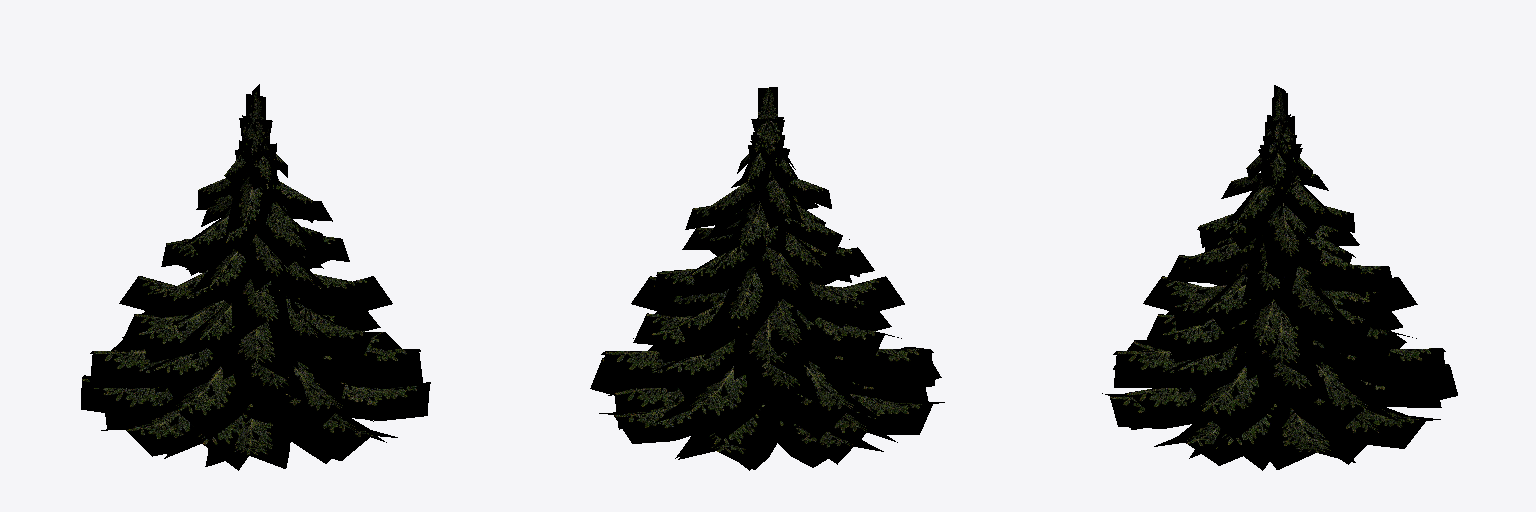
3 views of the same model, side by side, from view 1: azimuth 30°, elevation 25°; view 2: azimuth 150°, elevation 25°; view 3: azimuth 270°, elevation 25° (orthographic).
Visible parts, largest first — view 1: pine_tree; view 2: pine_tree; view 3: pine_tree.
Boxes of the visible parts, x1,y1,x2,y2 form: pine_tree: [81, 84, 430, 470]; pine_tree: [590, 87, 944, 470]; pine_tree: [1102, 85, 1457, 470].
Size of the model in its own units: 95.02 by 98.96 by 95.03.
Materials: 1 (1 with a texture image).